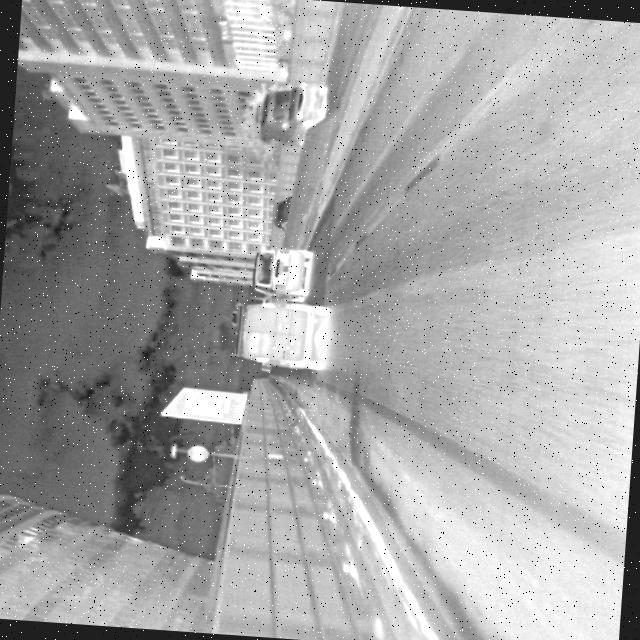Vehicle: (226, 296, 330, 372), (252, 76, 334, 150), (246, 244, 316, 304)
